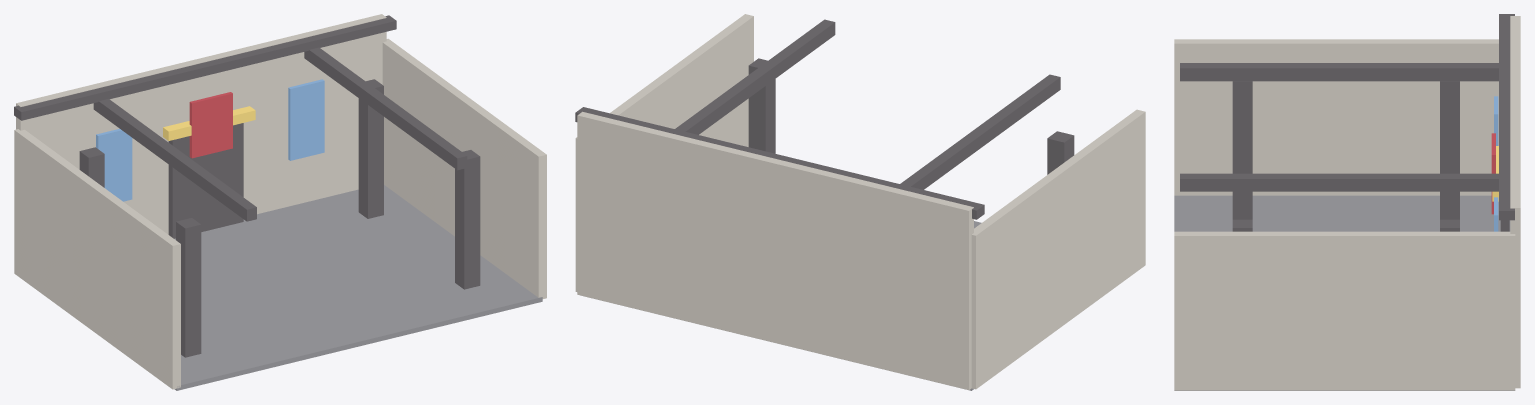
The model's file is academy-hall.gltf.
3 renders of one model, left to right at view 1: azimuth 30°, elevation 25°; view 2: azimuth 150°, elevation 25°; view 3: azimuth 270°, elevation 25°, orthographic. The views are drawn at different scales.
Visible parts, largest first — view 1: polished-stone-floor, rear-academy-wall, left-academy-wall, right-academy-wall, rear-upper-trim, central-entry-door-panel, right-ceiling-beam, left-ceiling-beam, right-front-column, right-rear-column, left-front-column, right-tall-window (+4 smaller); view 2: rear-academy-wall, left-academy-wall, right-academy-wall, left-ceiling-beam, right-ceiling-beam, rear-upper-trim, right-front-column, left-front-column; view 3: right-academy-wall, left-academy-wall, polished-stone-floor, left-ceiling-beam, right-ceiling-beam, rear-academy-wall, left-front-column, rear-upper-trim, left-rear-column.
Part boxes in pixels (x1,y1,x2,y2): polished-stone-floor: [174, 185, 542, 390]; rear-academy-wall: [16, 14, 386, 234]; left-academy-wall: [14, 129, 180, 389]; right-academy-wall: [382, 38, 546, 298]; rear-upper-trim: [14, 15, 396, 120]; central-entry-door-panel: [168, 123, 243, 238]; right-ceiling-beam: [304, 47, 467, 170]; left-ceiling-beam: [93, 99, 256, 221]; right-front-column: [455, 150, 480, 289]; right-rear-column: [358, 79, 383, 218]; left-front-column: [176, 218, 201, 357]; right-tall-window: [288, 79, 324, 160]; rear-academy-wall: [577, 111, 973, 389]; left-academy-wall: [971, 109, 1145, 389]; right-academy-wall: [575, 14, 753, 291]; left-ceiling-beam: [900, 74, 1060, 189]; right-ceiling-beam: [675, 19, 835, 134]; rear-upper-trim: [575, 107, 984, 219]; right-front-column: [748, 58, 775, 153]; left-front-column: [1047, 131, 1074, 174]; right-academy-wall: [1174, 231, 1515, 390]; left-academy-wall: [1174, 39, 1498, 195]; polished-stone-floor: [1174, 195, 1514, 390]; left-ceiling-beam: [1180, 63, 1498, 81]; right-ceiling-beam: [1180, 173, 1498, 191]; rear-academy-wall: [1510, 16, 1520, 388]; left-front-column: [1232, 81, 1252, 219]; rear-upper-trim: [1499, 14, 1514, 220]; left-rear-column: [1440, 81, 1459, 219].
Size of the model in its own units: 8.2 by 3.55 by 6.09.
